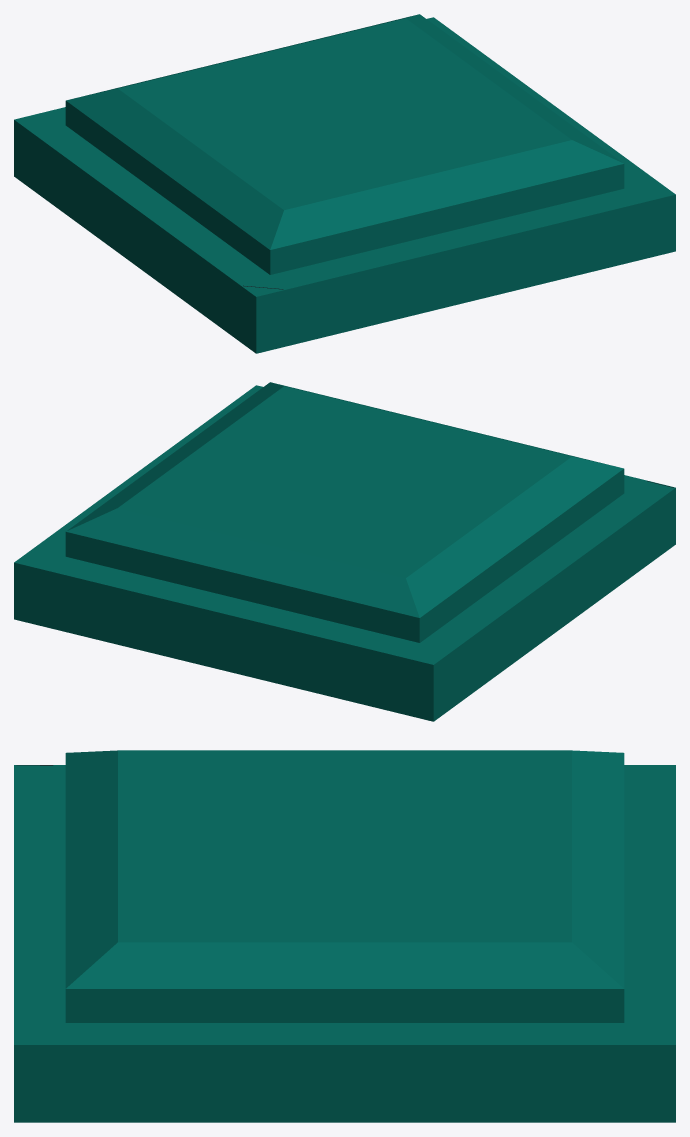
Rendered from CPU component.glb.
3 views of the same model, one above another, from view 1: azimuth 30°, elevation 25°; view 2: azimuth 150°, elevation 25°; view 3: azimuth 270°, elevation 25° (orthographic). The views are drawn at different scales.
Visible parts, largest first — view 1: CPU component; view 2: CPU component; view 3: CPU component.
Part boxes in pixels (left/top/right/bottom): CPU component: left=14, top=14, right=675, bottom=353; CPU component: left=14, top=382, right=675, bottom=721; CPU component: left=14, top=750, right=675, bottom=1122.
Size of the model in its own units: 1.09 by 0.2477 by 1.09.
